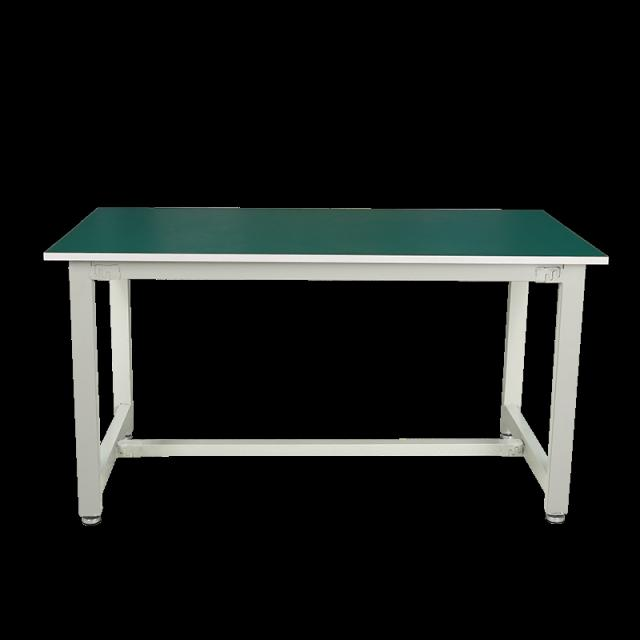table: (32, 184, 618, 547)
